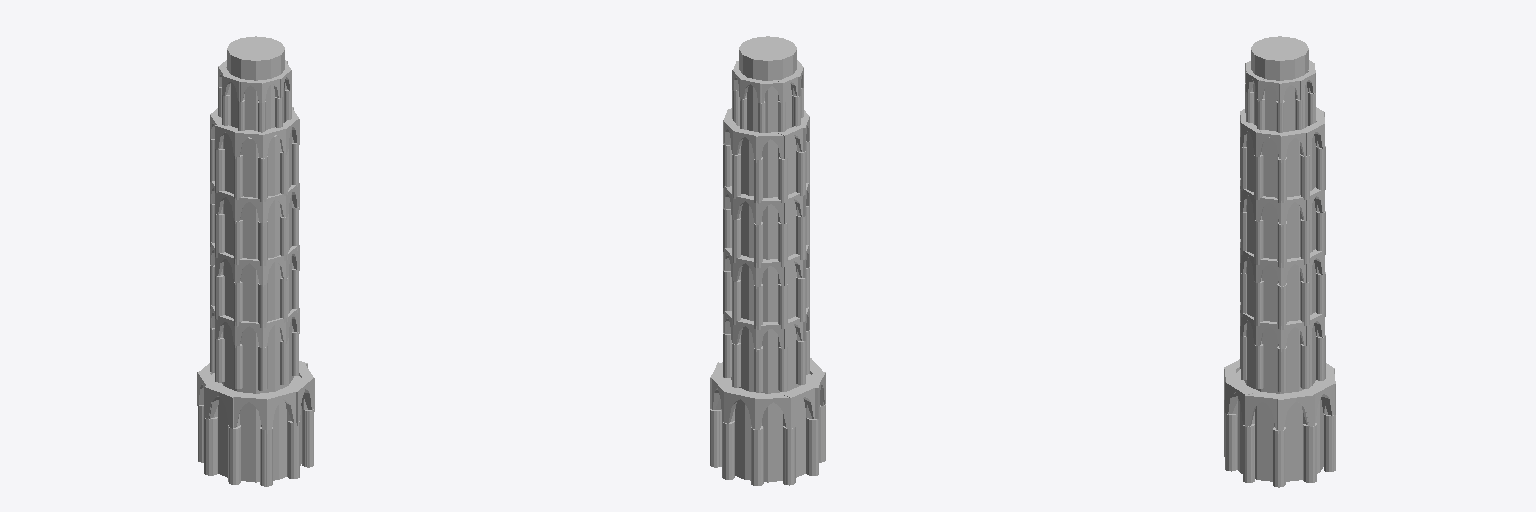
File: PisaTower.obj
The picture shows the model from 3 angles: view 1: azimuth 30°, elevation 25°; view 2: azimuth 150°, elevation 25°; view 3: azimuth 270°, elevation 25°; orthographic projection.
Parts seen in each view (by area): view 1: Cylinder.010; view 2: Cylinder.010; view 3: Cylinder.010.
Boxes of the visible parts, <box> form: Cylinder.010: <box>197,36,314,486</box>; Cylinder.010: <box>710,36,825,485</box>; Cylinder.010: <box>1224,36,1335,487</box>.
Bounding box in the file's own units: 3.15 × 12.2 × 3.